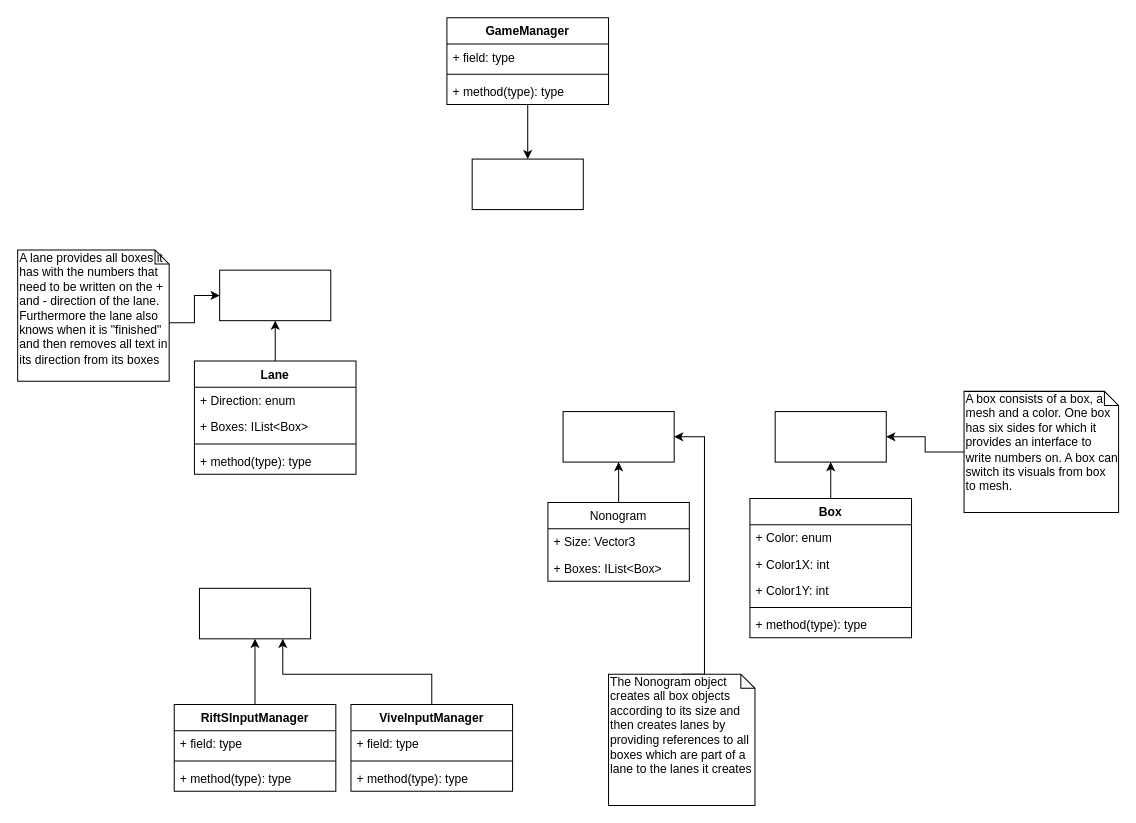
Some shapes in this 1136 by 823 pixel diagram are drawn without their labels. The centre of each missing label's shape, as x and y in pixels:
«interface» IBox: point 830,436
«interface» IGameManager: point 527,184
«interface» IInputManager: point 254,613
«interface» ILane: point 275,295
«interface» INonogram: point 618,436
